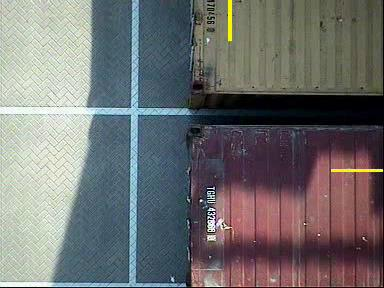groundmarker_2: (107, 182, 163, 221), (109, 11, 164, 50)
